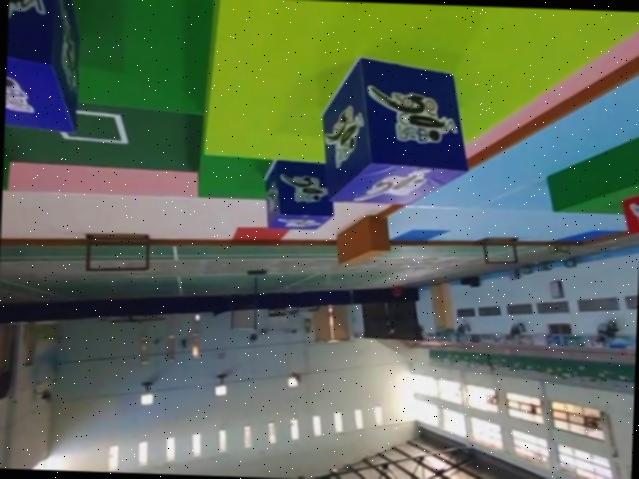R1 Blue: (323, 50, 474, 206), (3, 0, 79, 130), (262, 158, 336, 231)
